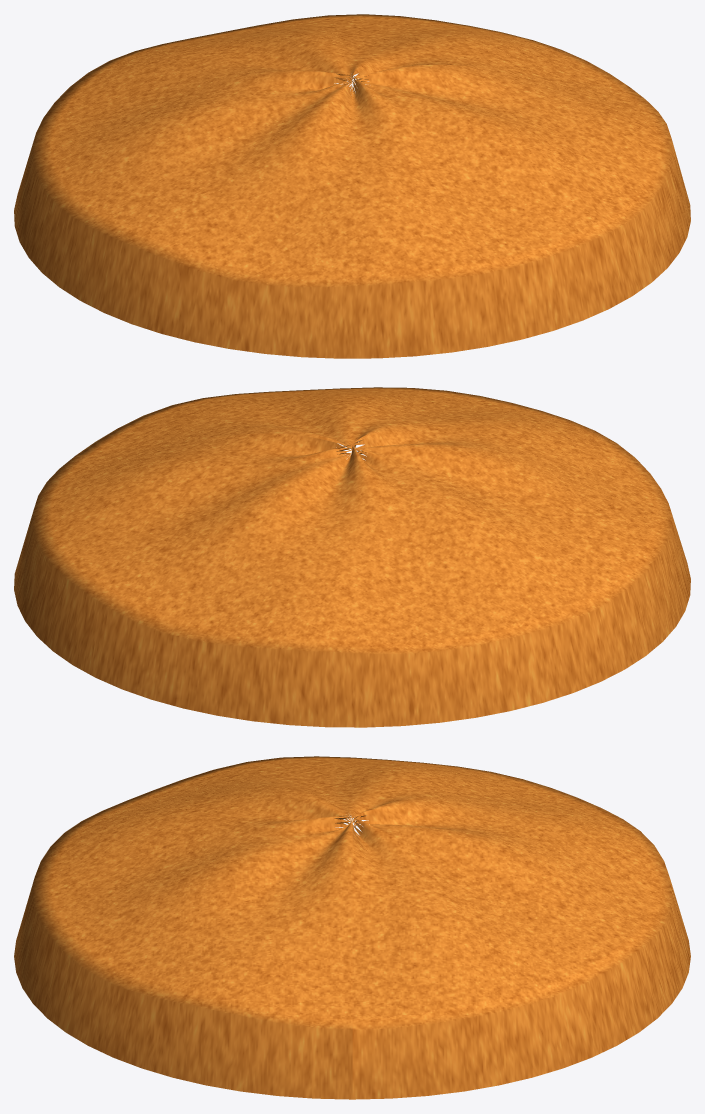
The model's file is 01_Couscous_Semolina_Mound.obj.
The picture shows the model from 3 angles, top to bottom: view 1: azimuth 30°, elevation 25°; view 2: azimuth 150°, elevation 25°; view 3: azimuth 270°, elevation 25°; orthographic projection.
Parts seen in each view (by area): view 1: 01_Couscous_Semolina_Mound; view 2: 01_Couscous_Semolina_Mound; view 3: 01_Couscous_Semolina_Mound.
Part boxes in pixels (x1,y1,x2,y2): 01_Couscous_Semolina_Mound: (14, 14, 690, 358); 01_Couscous_Semolina_Mound: (14, 387, 690, 727); 01_Couscous_Semolina_Mound: (14, 756, 690, 1099).
Bounding box in the file's own units: 0.25 × 0.0575 × 0.25.
Materials: 1 (1 with a texture image).
